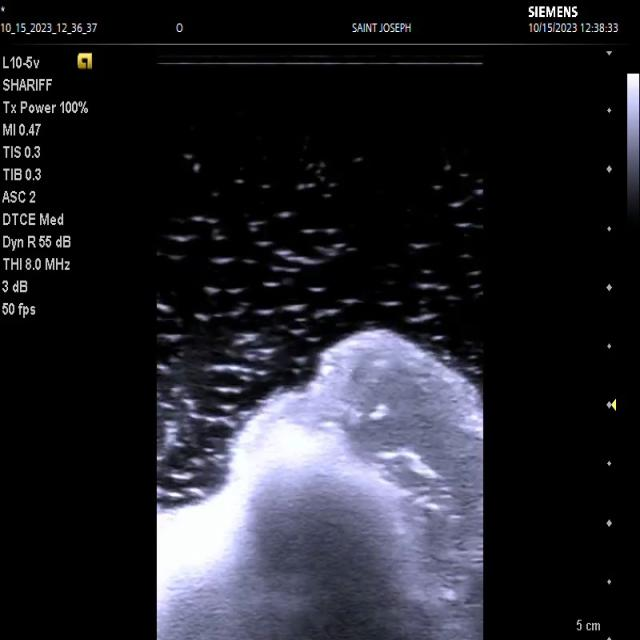tissue: (156, 327, 485, 640)
